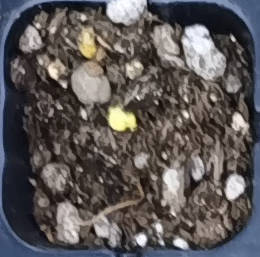pepper seed: (37, 40, 175, 171), (28, 1, 127, 60)
